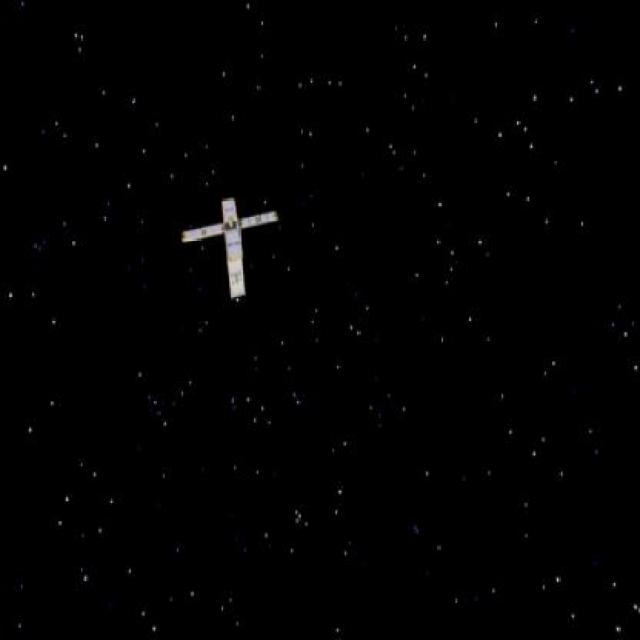medium_debris: (175, 190, 281, 310)
